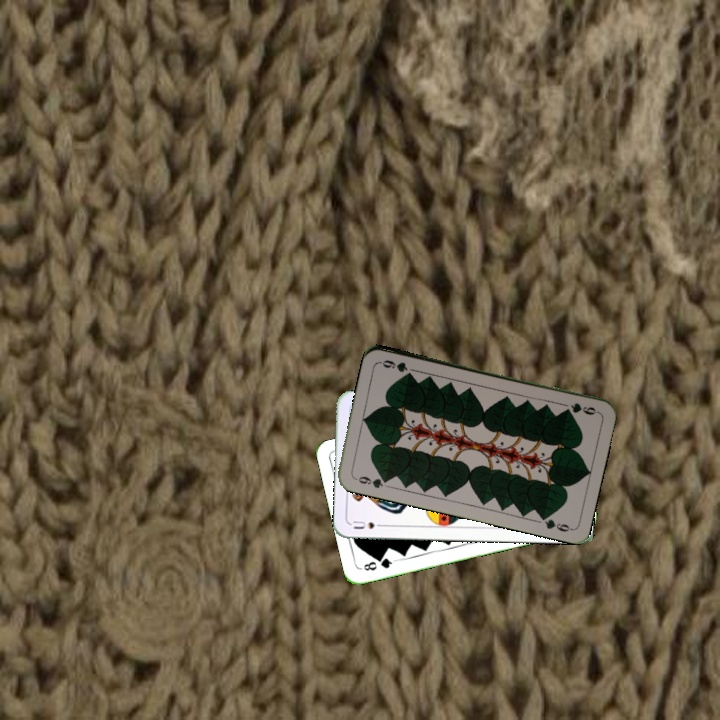G8: (359, 554, 398, 573)
G9: (350, 472, 391, 491), (566, 399, 601, 417)
SU: (349, 517, 388, 532)
